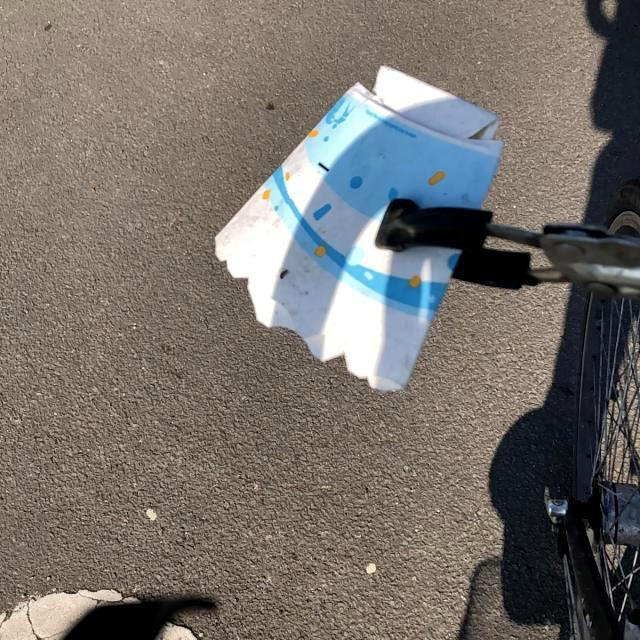Paper: (210, 61, 506, 397)
